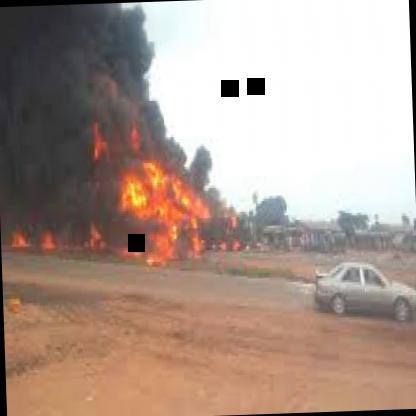fire: (72, 44, 212, 276)
